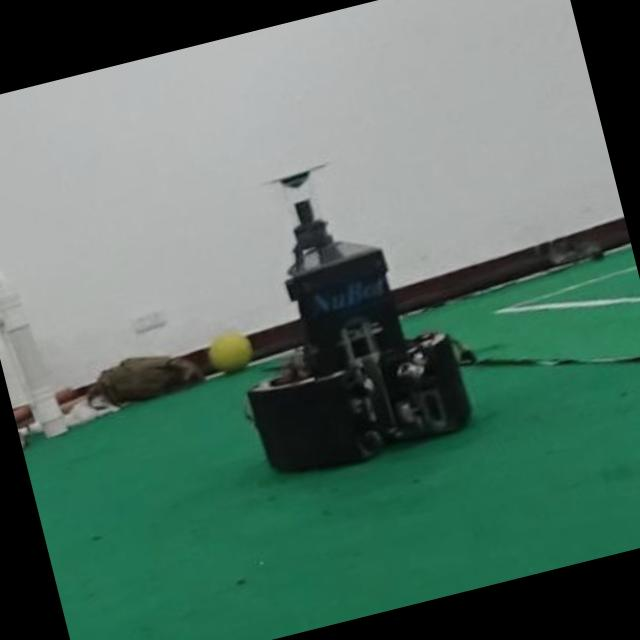ball: (208, 331, 252, 371)
robot: (247, 165, 470, 468)
